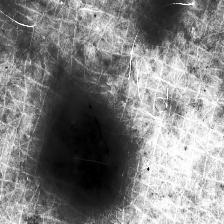Benign Marking or Mole: (38, 99, 124, 206), (137, 0, 185, 40)
